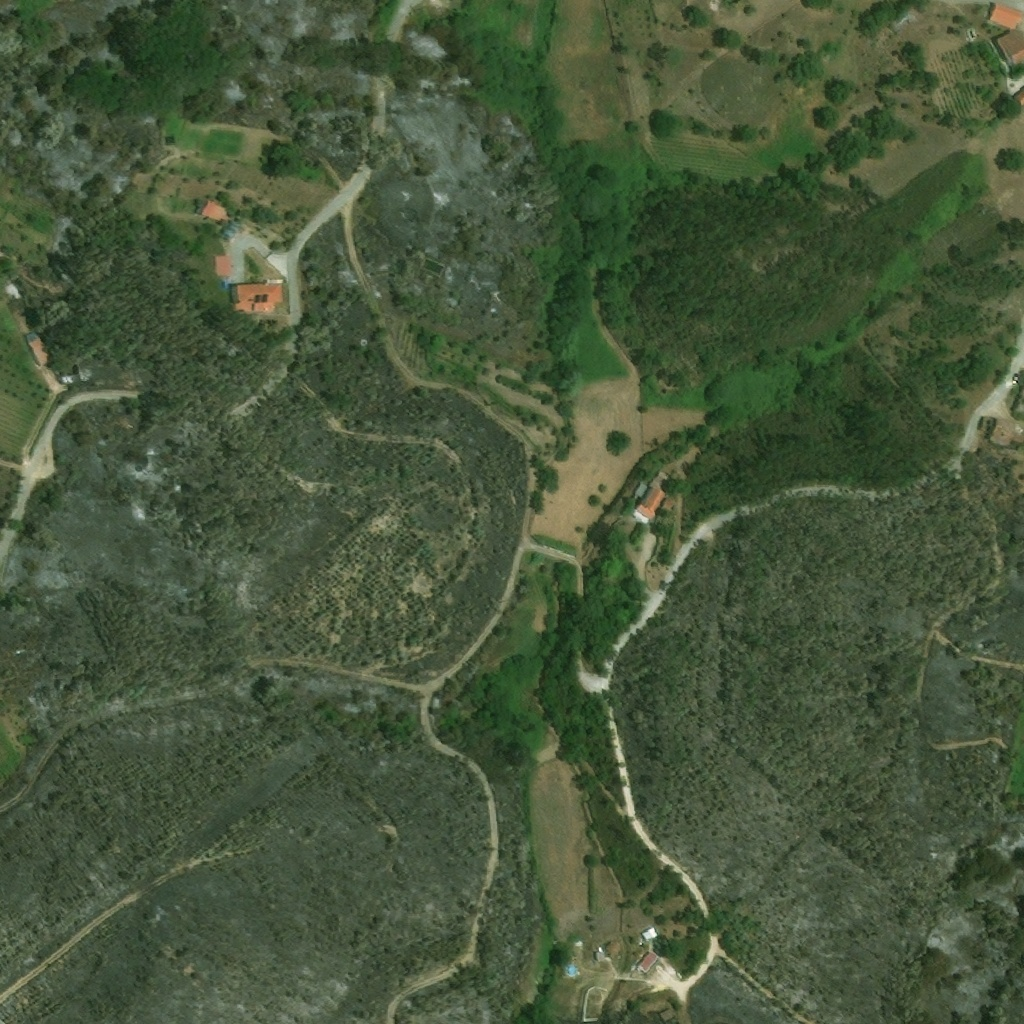0 no-damage: (632, 472, 675, 525), (231, 279, 286, 316), (993, 29, 1023, 67), (198, 199, 237, 227), (26, 329, 52, 367), (988, 3, 1023, 30), (989, 417, 1023, 444), (637, 951, 659, 975), (214, 255, 232, 279)
4 un-classified: (1012, 86, 1023, 105)
